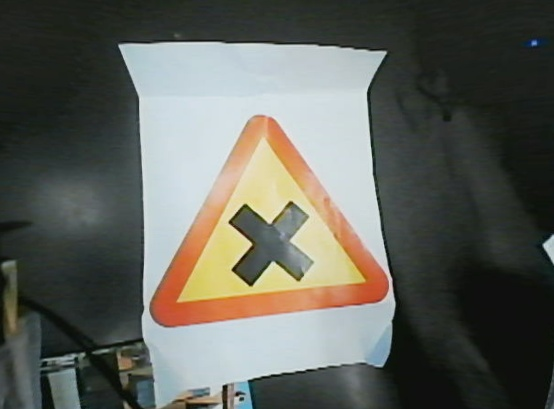junction: (118, 82, 404, 332)
